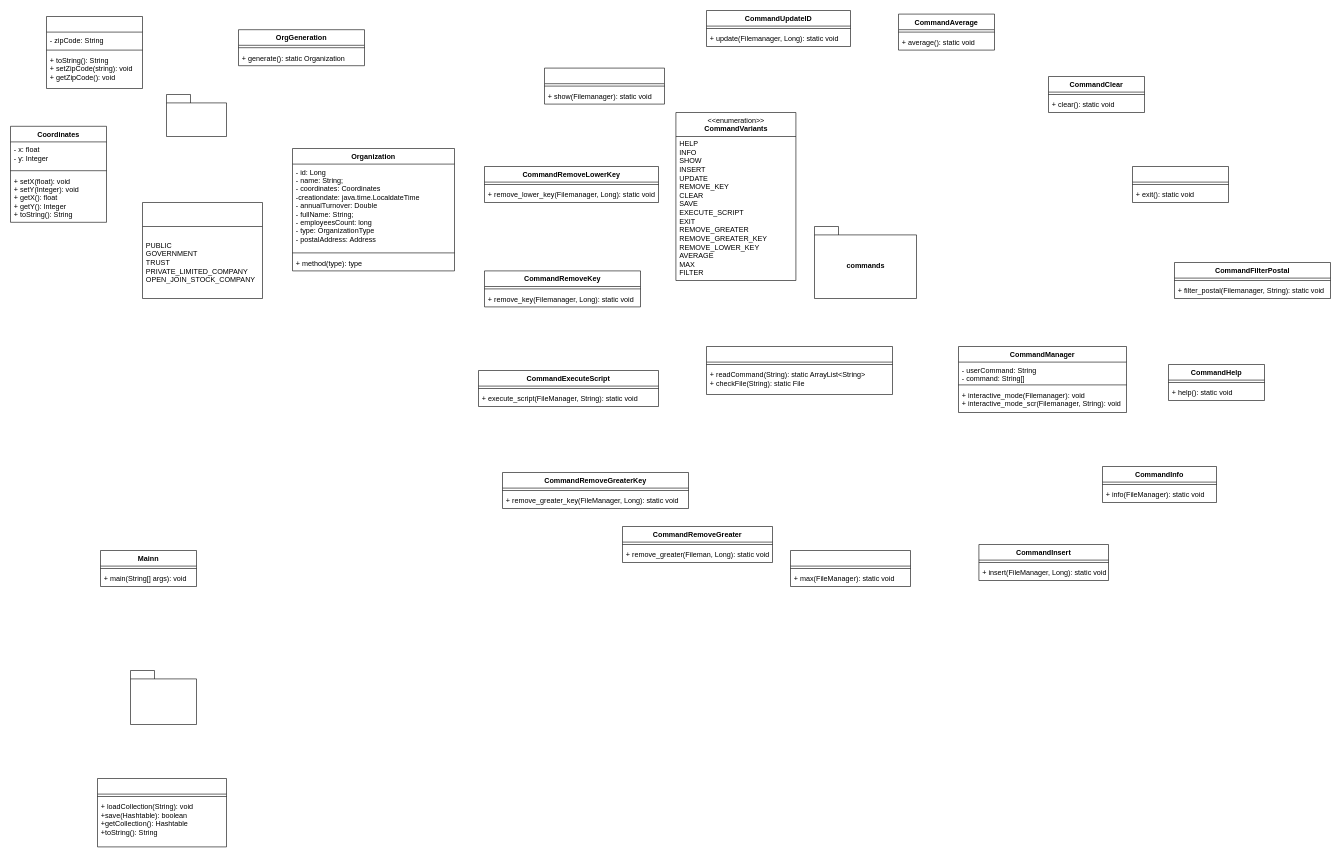
Image size: 1341x859. Some labels were removed from this diagram. Here are the shapes that lost their labels. From the top down, the box of each, then its label:
(46, 16, 142, 88): Address
(544, 68, 664, 104): CommandShow
(166, 94, 226, 136): collection
(1132, 166, 1228, 202): CommandExit
(142, 202, 262, 298): <<enumeration>> OrganizationType
(706, 346, 892, 394): ScriptReader
(790, 550, 910, 586): CommandMax
(130, 670, 196, 724): worker
(97, 778, 226, 847): FileManager
